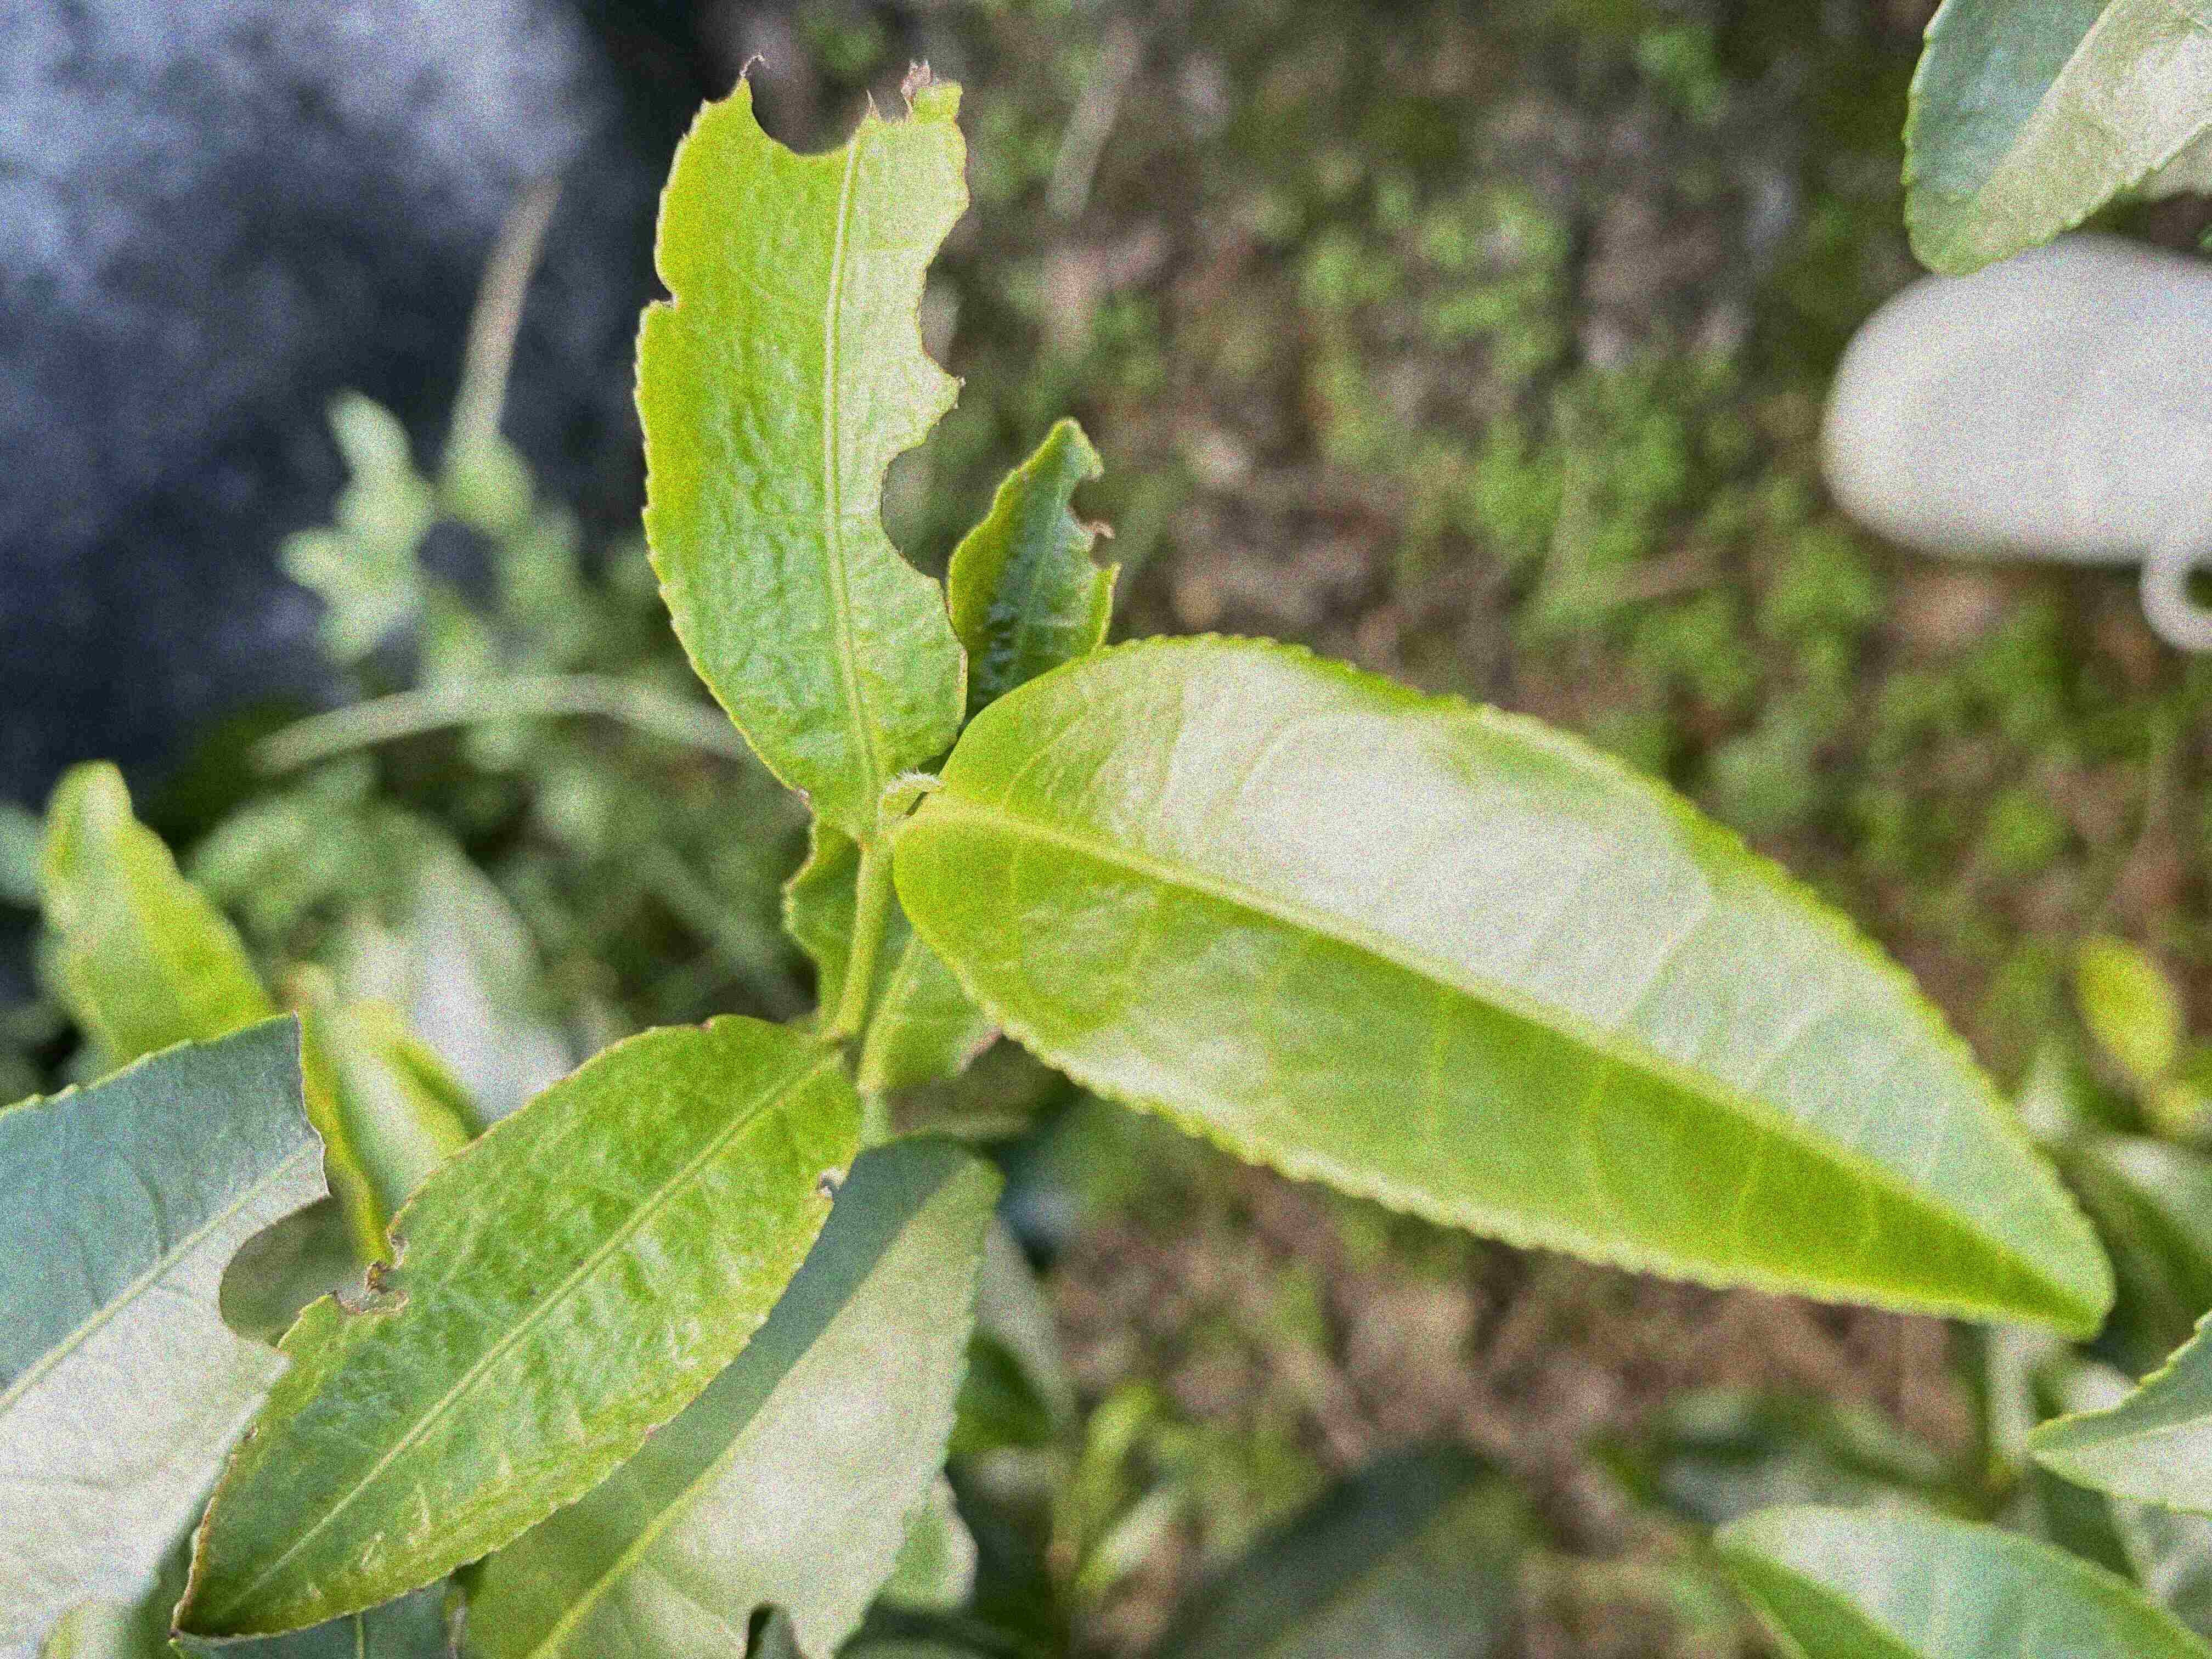chihuo_high: (171, 1012, 866, 1643), (627, 54, 970, 836), (3, 1012, 334, 1656)
healthy: (894, 629, 2121, 1335)
